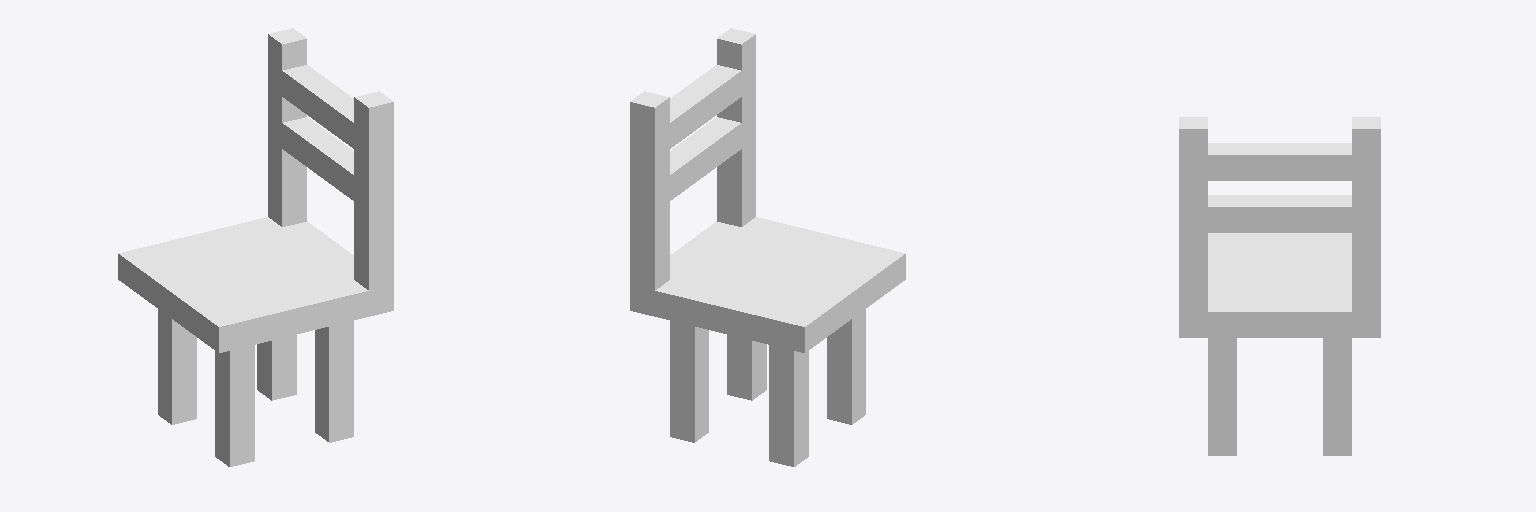
File: chair_1.obj
3 views of the same model, side by side, from view 1: azimuth 30°, elevation 25°; view 2: azimuth 150°, elevation 25°; view 3: azimuth 270°, elevation 25° (orthographic).
Visible parts, largest first — view 1: object 1; view 2: object 1; view 3: object 1.
Boxes of the visible parts, x1,y1,x2,y2 form: object 1: [118, 28, 393, 466]; object 1: [630, 28, 905, 466]; object 1: [1179, 117, 1380, 455].
Size of the model in its own units: 0.7 by 1.3 by 0.7.